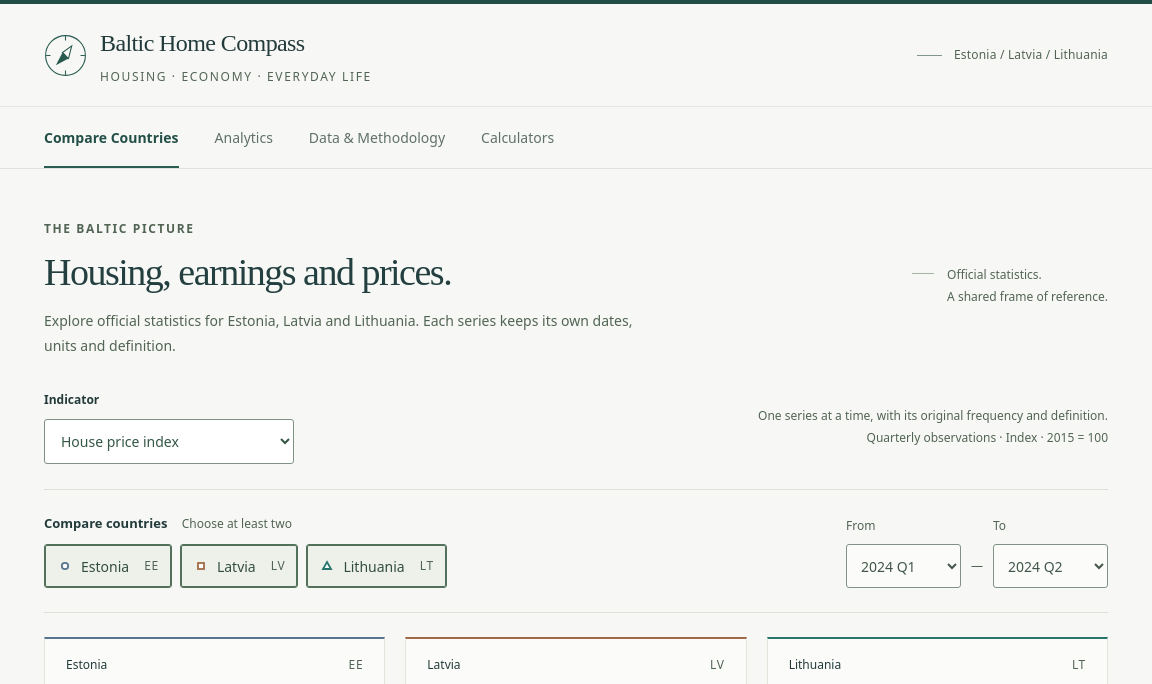
Test: comparison controls › shows unavailable source data without substituting another indicator
The width and height of the screenshot is (1152, 684).
Select "Annual net earnings" in the dropdown labelled "Indicator" at (169, 441), box [44,419,294,464]
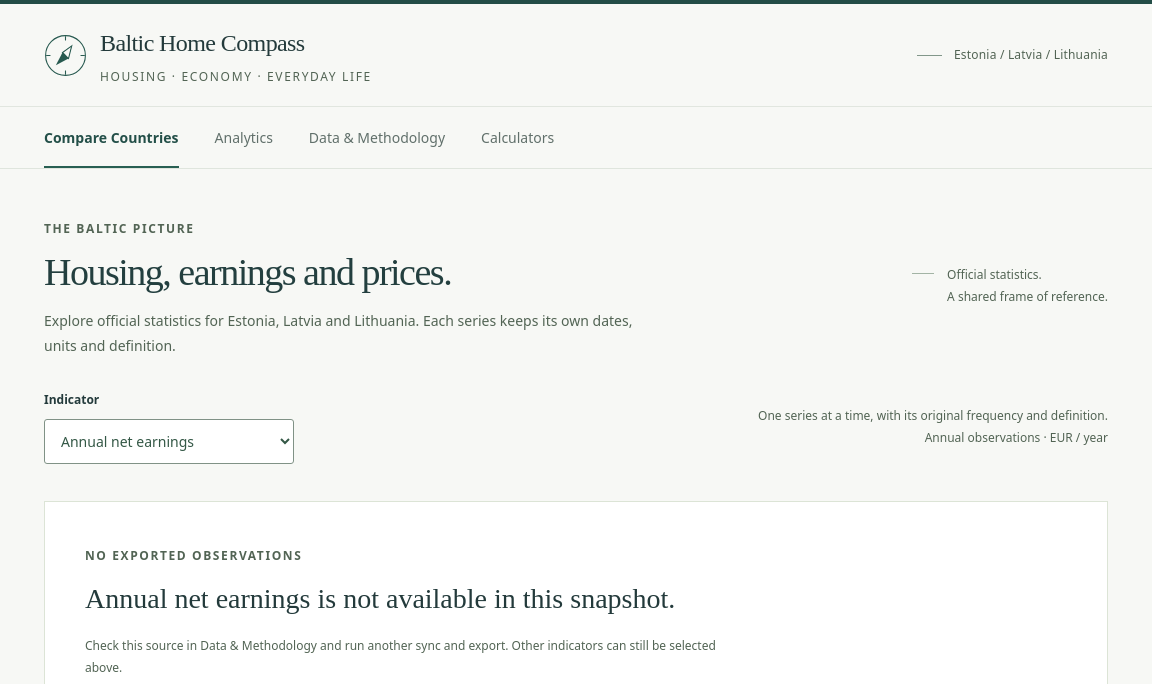
Check: the heading "Annual net earnings is not available in this snapshot." is shown, box [85,578,705,620]
